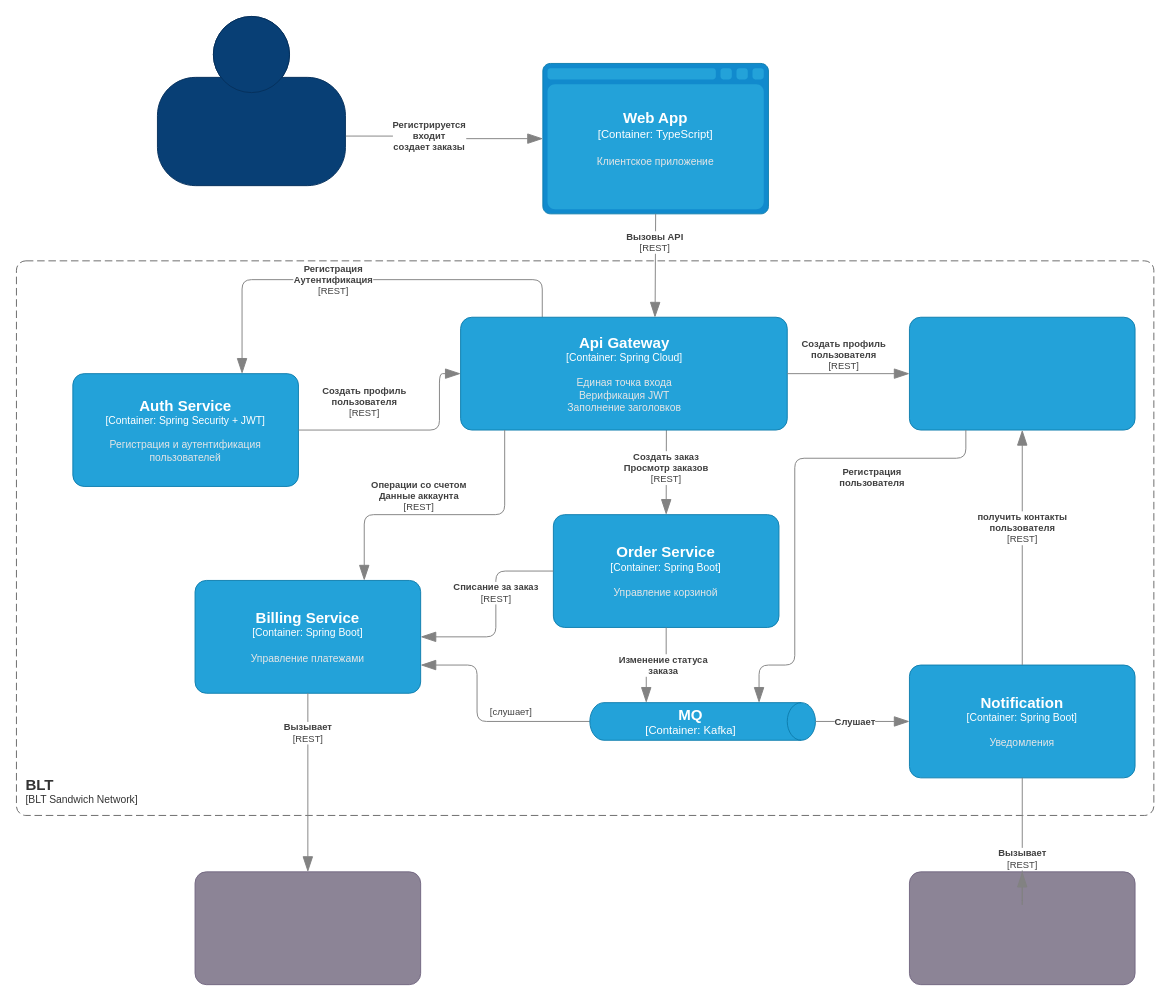
Image size: 1170x1001. Some labels were removed from this diagram. Each missing label, with the box of its shape:
Customer [Person] Клиент приложения: (157, 16, 345, 186)
EXT: Email service [Software System] Почтовый сервис: (909, 871, 1135, 985)
EXT: Payment Service [Software System] Внешний сервис обработки платежей: (194, 871, 421, 985)
User Service [Container: Spring Boot] Работа с профилями пользователей: (909, 316, 1135, 430)
